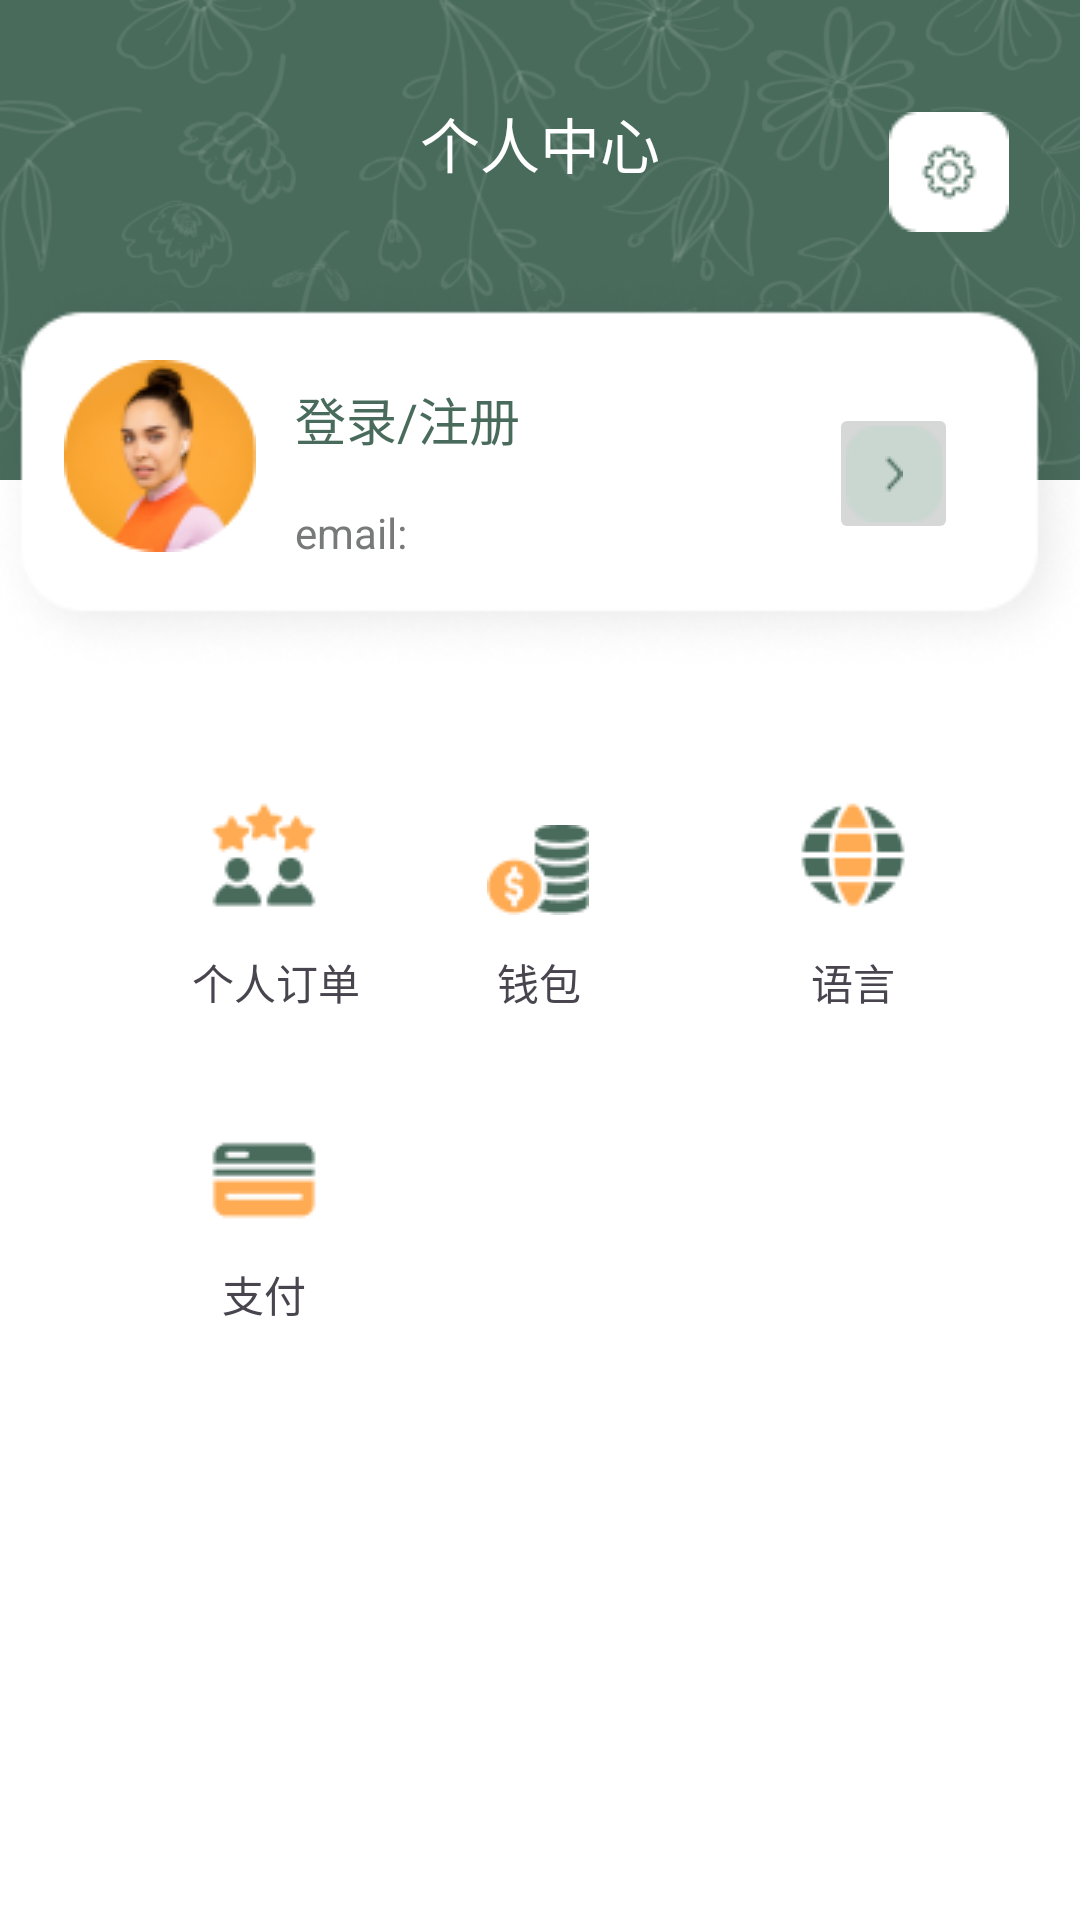

Where to tap for icons on this 1080px×1920px app screen, as [x,y]:
settings: [949,172]
